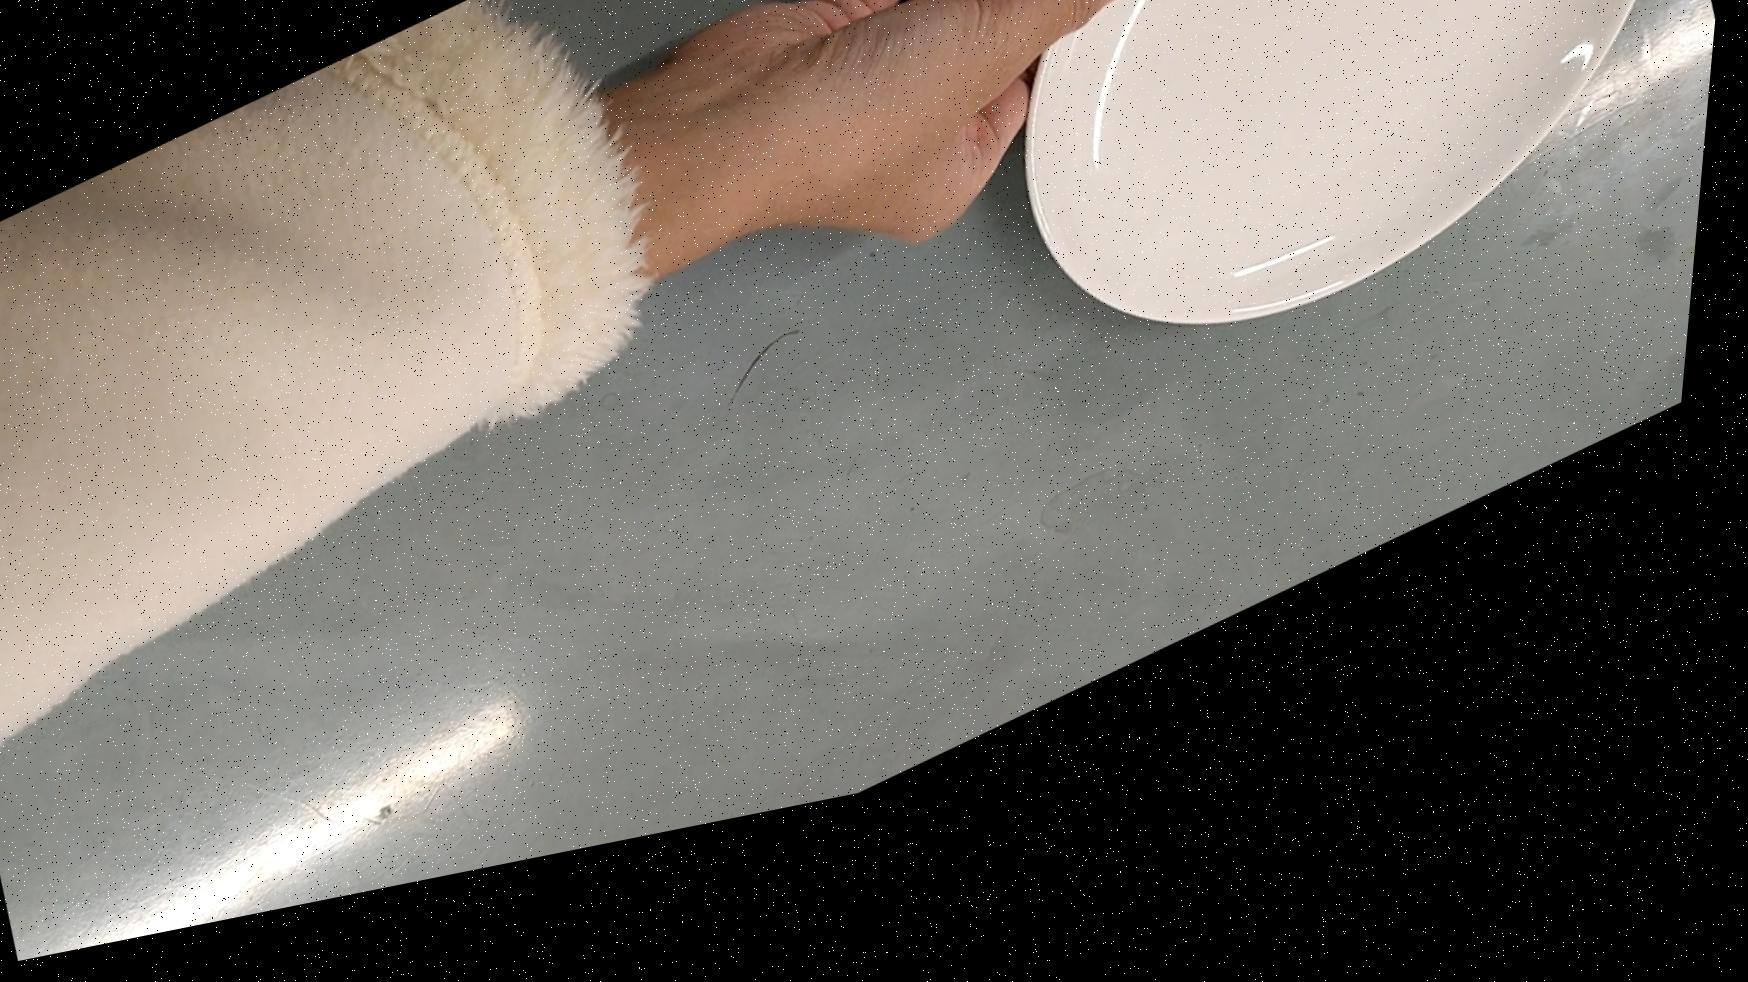plate: (926, 0, 1748, 491)
